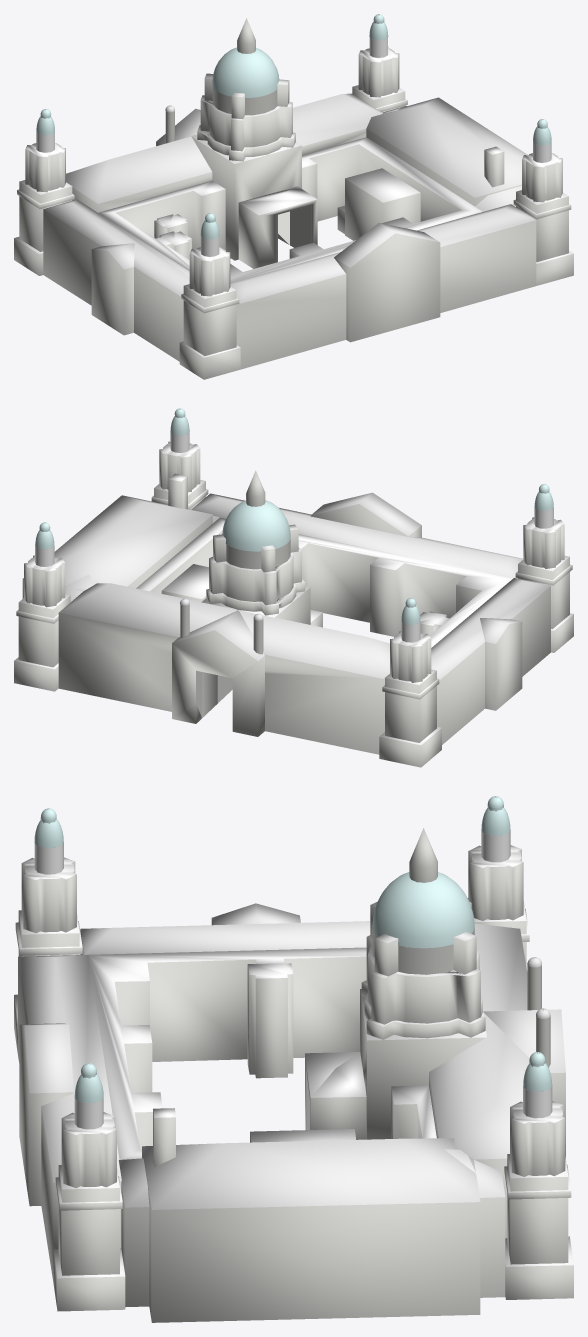
The model's file is Cityhall.fbx.
3 renders of one model, top to bottom at view 1: azimuth 30°, elevation 25°; view 2: azimuth 150°, elevation 25°; view 3: azimuth 270°, elevation 25°, orthographic. The views are drawn at different scales.
Parts seen in each view (by area): view 1: Belfast City Hall; view 2: Belfast City Hall; view 3: Belfast City Hall.
Boxes of the visible parts, x1,y1,x2,y2 form: Belfast City Hall: (14, 14, 573, 379); Belfast City Hall: (14, 408, 573, 767); Belfast City Hall: (14, 796, 573, 1322).
Bounding box in the file's own units: 10004 × 5000 × 7651.
